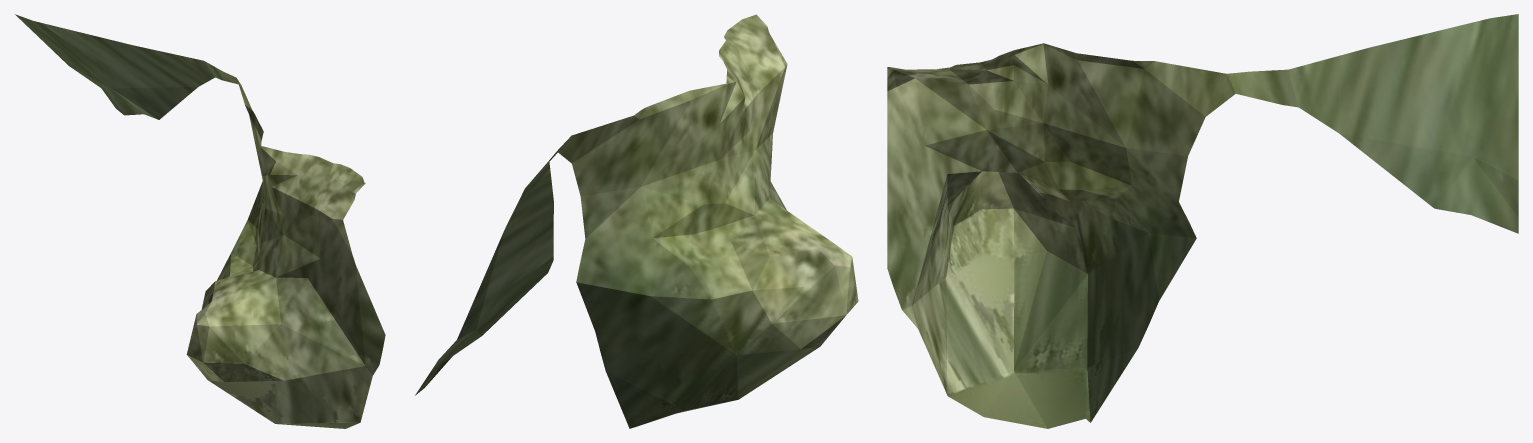
The picture shows the model from 3 angles, left to right: view 1: azimuth 30°, elevation 25°; view 2: azimuth 150°, elevation 25°; view 3: azimuth 270°, elevation 25°; orthographic projection. The views are drawn at different scales.
Bounding box in the file's own units: 0.9553 × 1.8 × 2.95.
Materials: 2 (2 with a texture image).
